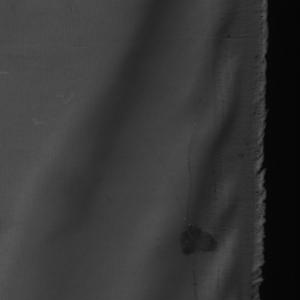Damage: (238, 1, 283, 300)
Stain: (175, 224, 223, 260)
Wrinkle: (16, 1, 188, 251)
